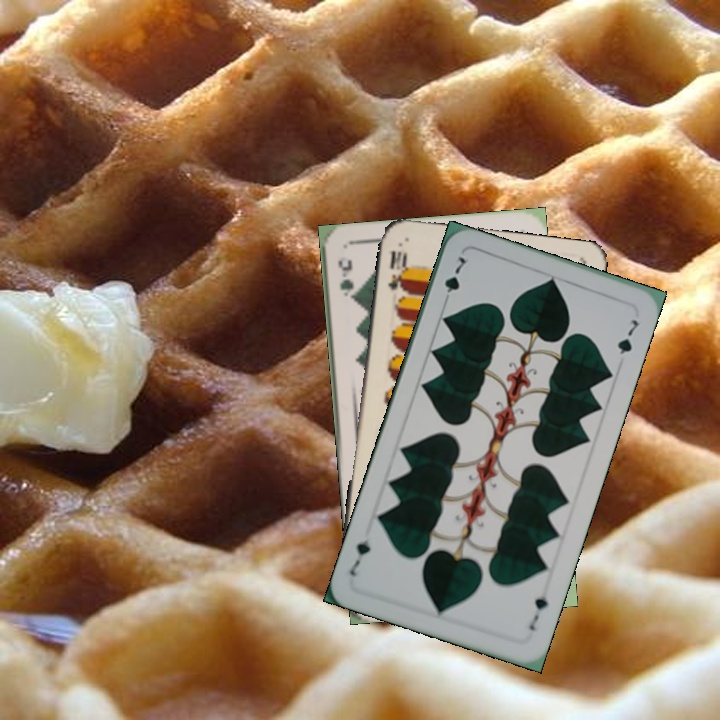E10: (384, 246, 410, 294)
G7: (439, 252, 471, 308), (525, 585, 551, 633)
G9: (334, 255, 358, 304)
